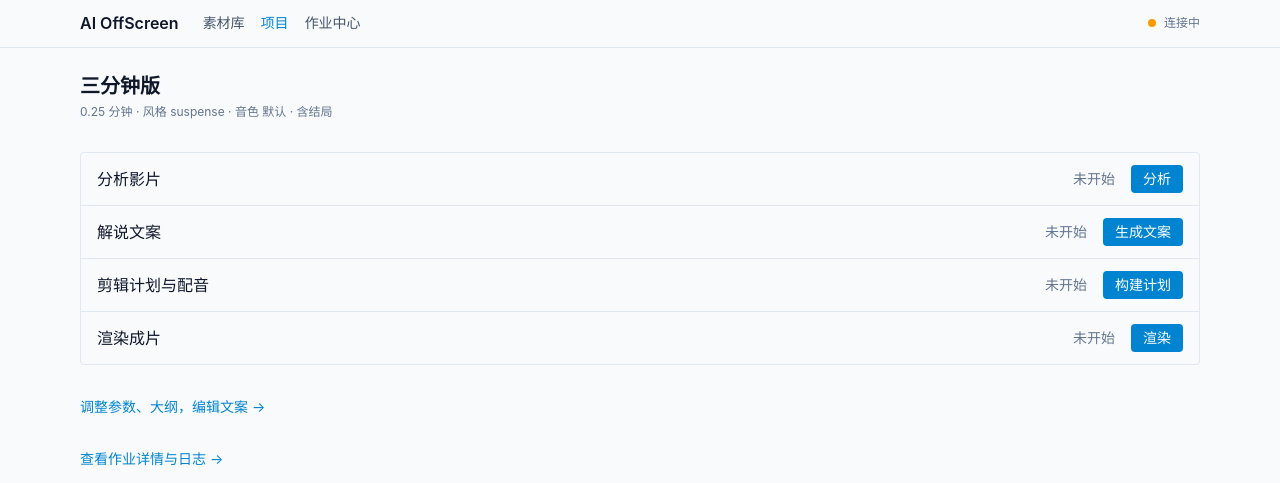
Test case: project page › the analysis.story button queues that step
Click the button "分析": (1157, 179) [1131, 165, 1183, 193]
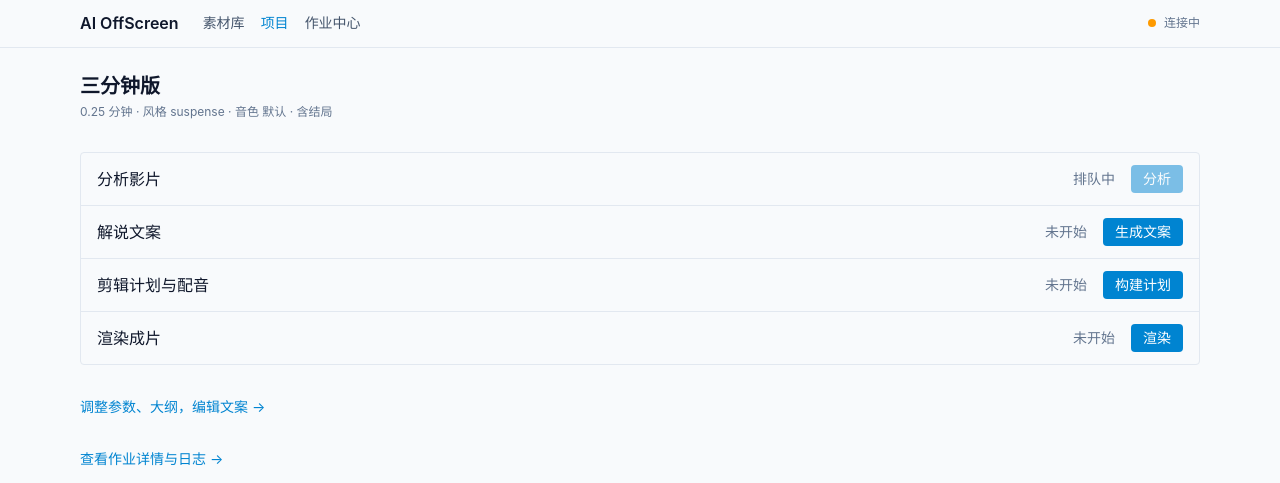
Now the list item "分析影片" shows "排队中", box [1073, 170, 1115, 187]
Now the button "分析" is disabled, box [1131, 165, 1183, 193]
